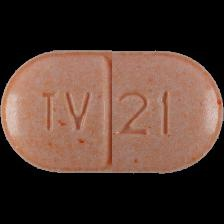58118-0041: (0, 0, 224, 224)
